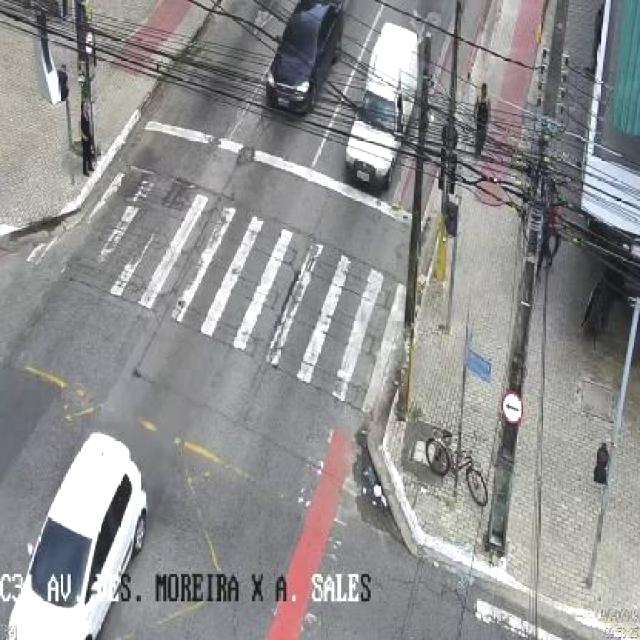Car: (6, 431, 166, 640), (255, 0, 342, 120)
Truck: (330, 18, 432, 186)
